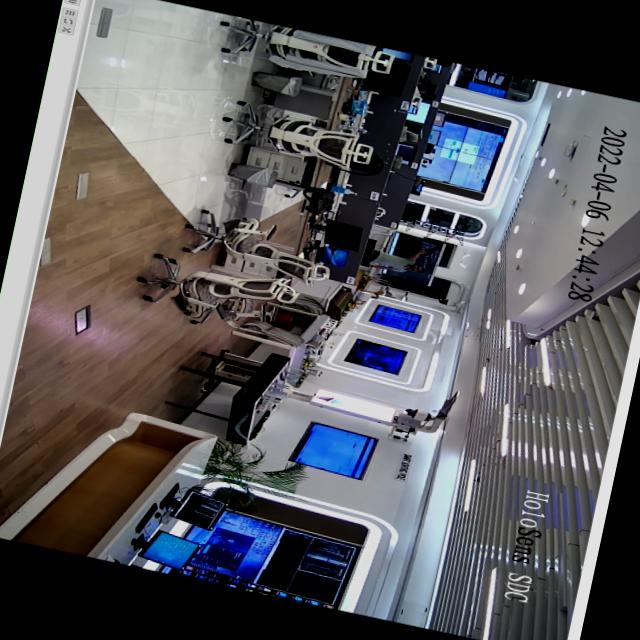long weapon: (403, 232, 456, 266)
